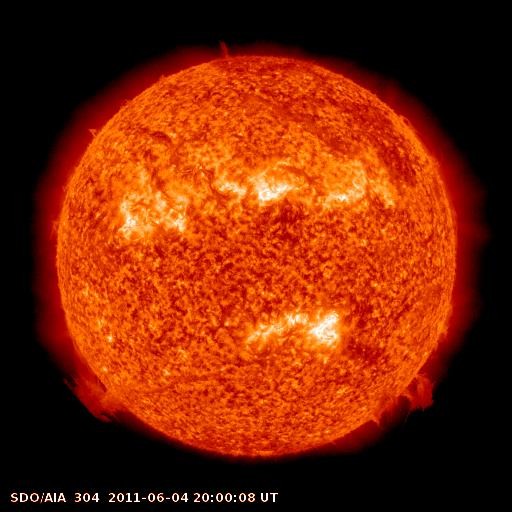prominence: (46, 343, 142, 428), (360, 369, 448, 432), (395, 111, 439, 160), (426, 298, 461, 351), (211, 33, 239, 65), (81, 120, 112, 145)
